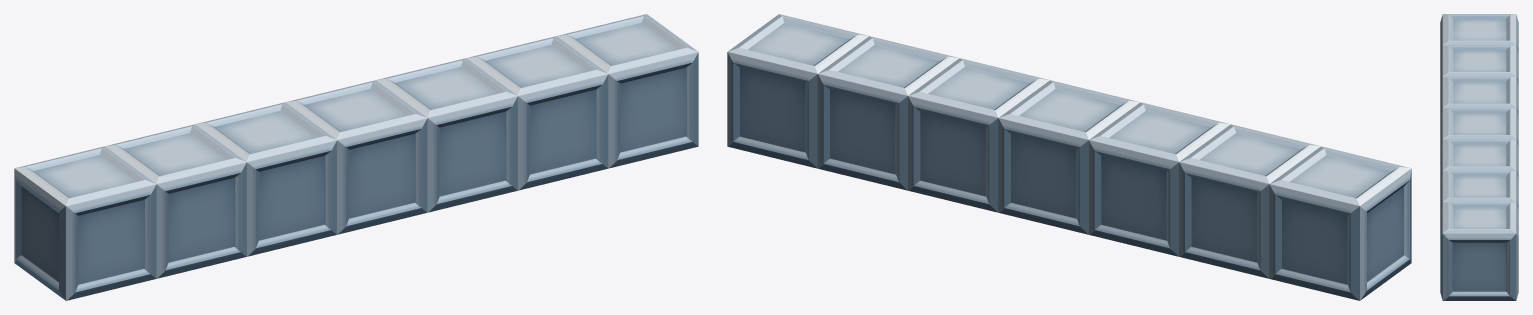
File: PrototypeI7.fbx
3 views of the same model, side by side, from view 1: azimuth 30°, elevation 25°; view 2: azimuth 150°, elevation 25°; view 3: azimuth 270°, elevation 25° (orthographic). The views are drawn at different scales.
Parts seen in each view (by area): view 1: polySurface1; view 2: polySurface1; view 3: polySurface1.
Boxes of the visible parts, <box> form: polySurface1: <box>14,14,698,300</box>; polySurface1: <box>727,14,1411,300</box>; polySurface1: <box>1440,14,1518,300</box>.
Bounding box in the file's own units: 6.14 × 0.9244 × 0.9147.
Materials: 1 (1 with a texture image).
